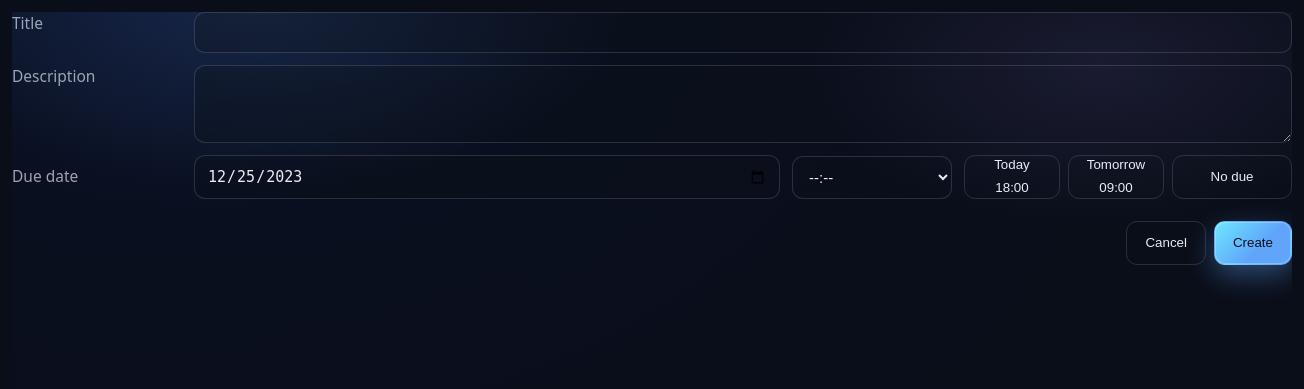
Test case: CreateTaskForm › blocks submit and shows errors on invalid data
Step 1. Click the button "Create" → point(1253, 243), box [1214,221,1292,265]
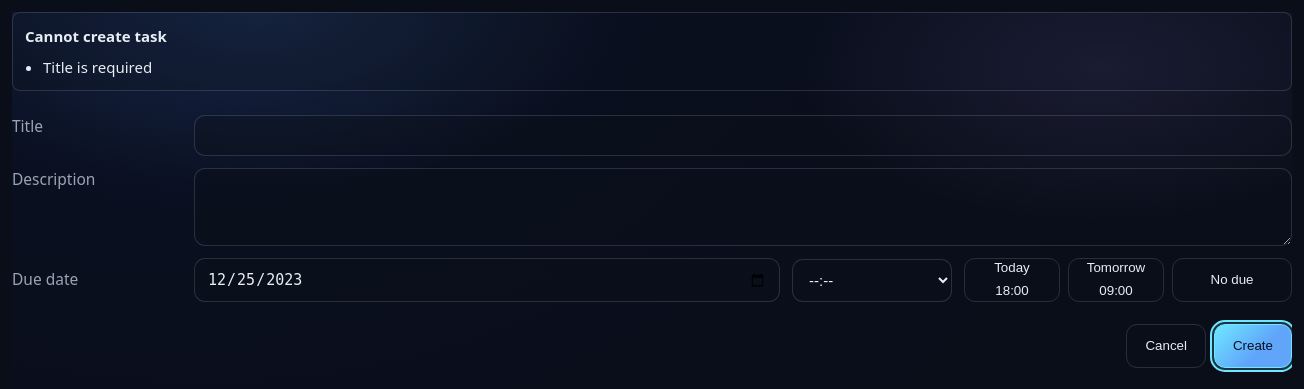
Result: the list item "Title is required" is shown at [43,56,152,76]
